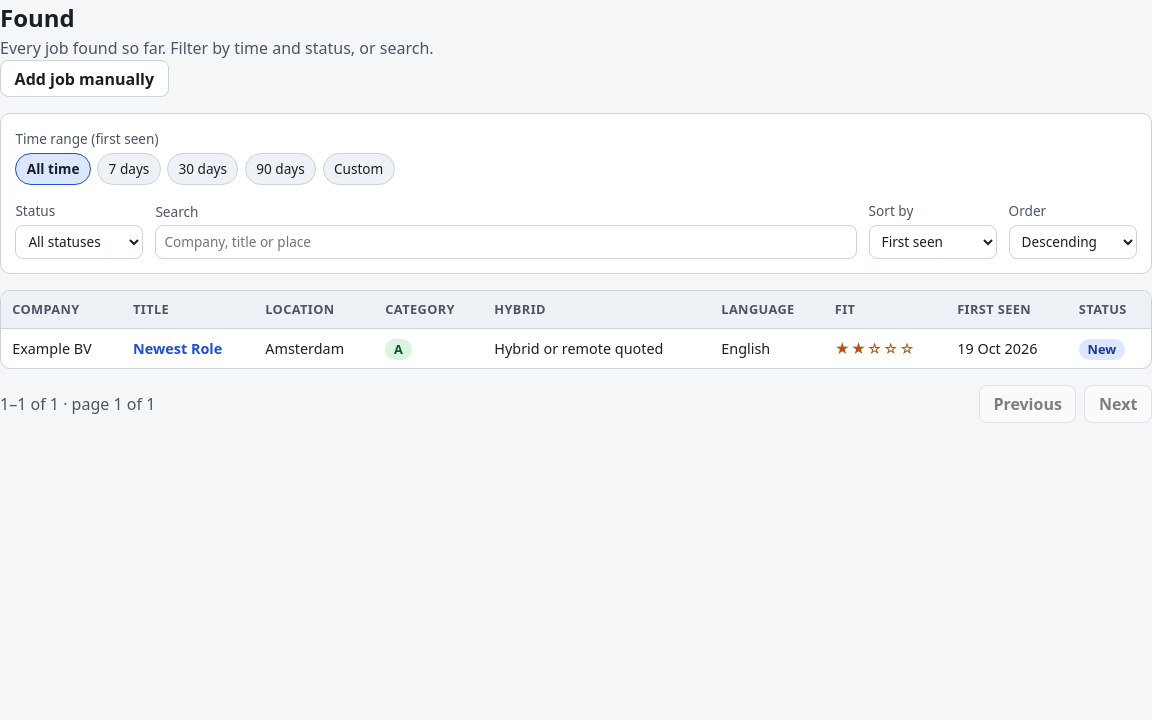
FoundPage › opens a job in a dialog and reloads the list after skipping it
The image size is (1152, 720).
Click the button "Newest Role" at (178, 348), box x1=133 y1=338 x2=222 y2=359
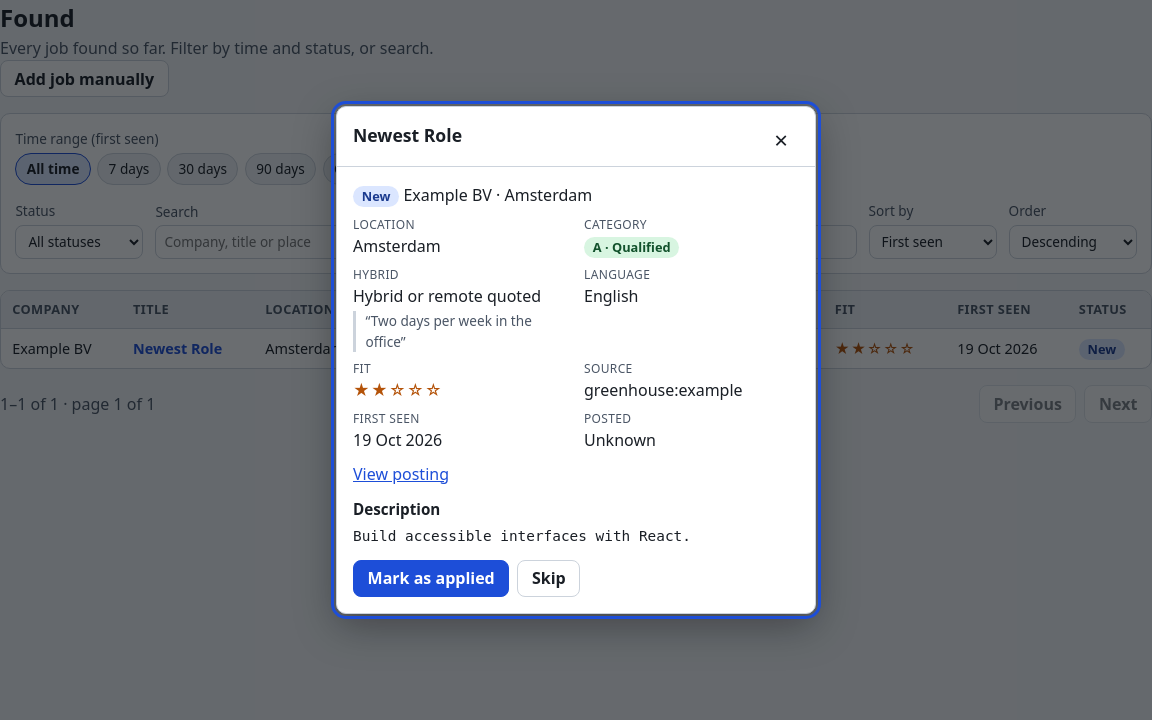
Click the button "Skip" at (549, 578), box x1=517 y1=560 x2=580 y2=597
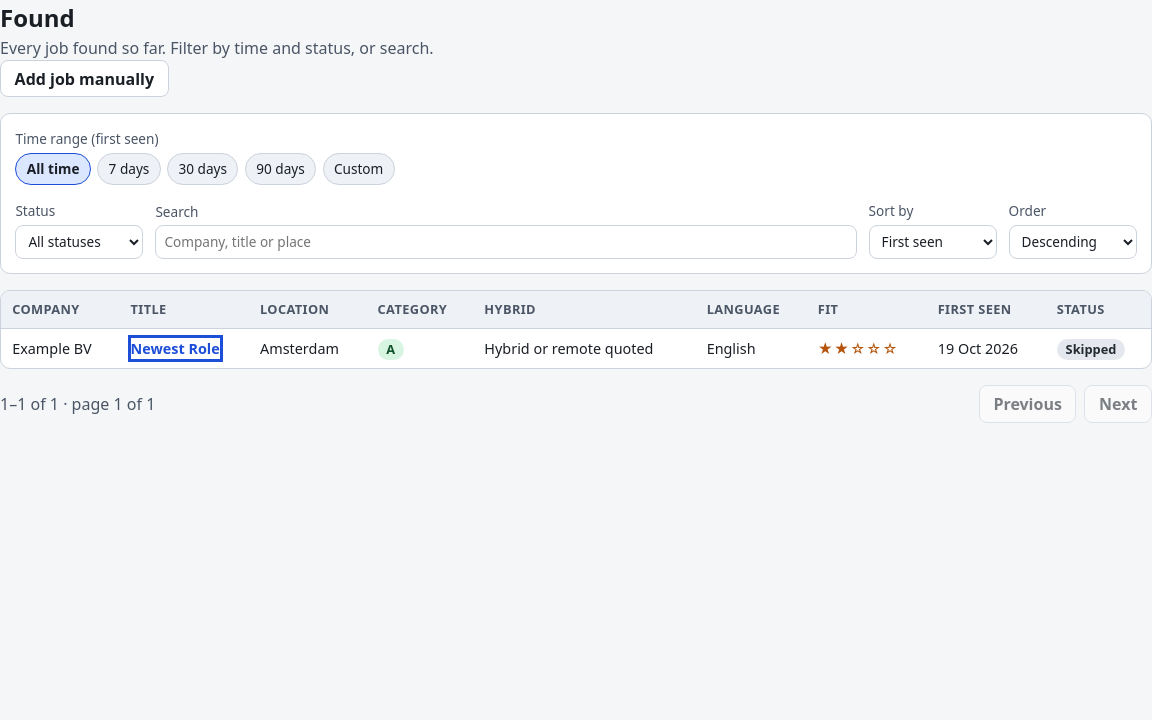
Result: the dialog is gone
Result: the text "Skipped" is shown at x1=1057 y1=339 x2=1125 y2=360
